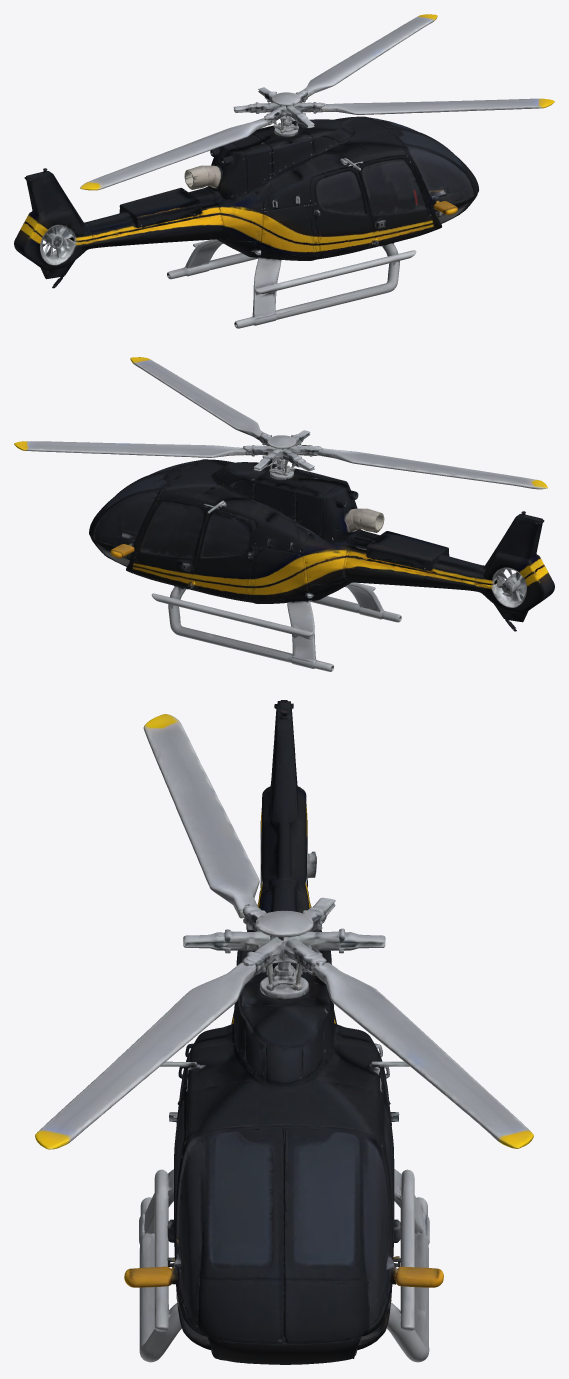
Rendered from heli.glb.
3 renders of one model, top to bottom at view 1: azimuth 30°, elevation 25°; view 2: azimuth 150°, elevation 25°; view 3: azimuth 270°, elevation 25°, orthographic. The views are drawn at different scales.
Visible parts, largest first — view 1: tripo_node_e5d5f93d-c2de-4bee-baa8-29c47adddb9b; view 2: tripo_node_e5d5f93d-c2de-4bee-baa8-29c47adddb9b; view 3: tripo_node_e5d5f93d-c2de-4bee-baa8-29c47adddb9b.
Boxes of the visible parts, left/top/right/bottom form: tripo_node_e5d5f93d-c2de-4bee-baa8-29c47adddb9b: left=14, top=14, right=554, bottom=328; tripo_node_e5d5f93d-c2de-4bee-baa8-29c47adddb9b: left=14, top=357, right=554, bottom=671; tripo_node_e5d5f93d-c2de-4bee-baa8-29c47adddb9b: left=35, top=700, right=533, bottom=1364.
Bounding box in the file's own units: 0.9839 × 0.3726 × 0.4452.
Materials: 1 (1 with a texture image).
